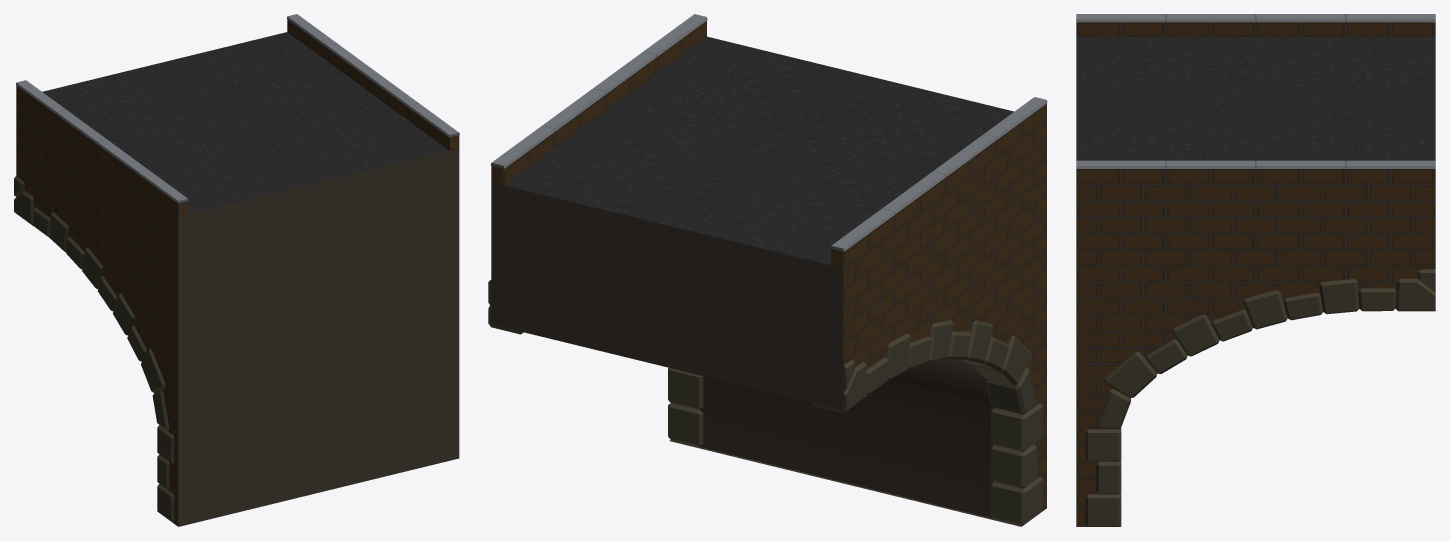
File: SW_ENV_WalledStraight_DoubleTrack_HalfArc.fbx
3 renders of one model, left to right at view 1: azimuth 30°, elevation 25°; view 2: azimuth 150°, elevation 25°; view 3: azimuth 270°, elevation 25°, orthographic. The views are drawn at different scales.
Parts seen in each view (by area): view 1: SW_ENV_WalledStraight_DoubleTrack_HalfArc; view 2: SW_ENV_WalledStraight_DoubleTrack_HalfArc; view 3: SW_ENV_WalledStraight_DoubleTrack_HalfArc.
Part boxes in pixels (<box>): SW_ENV_WalledStraight_DoubleTrack_HalfArc: <box>14,14,459,526</box>; SW_ENV_WalledStraight_DoubleTrack_HalfArc: <box>488,14,1047,526</box>; SW_ENV_WalledStraight_DoubleTrack_HalfArc: <box>1076,14,1435,526</box>.
Size of the model in its own units: 10.16 by 11.08 by 10.
